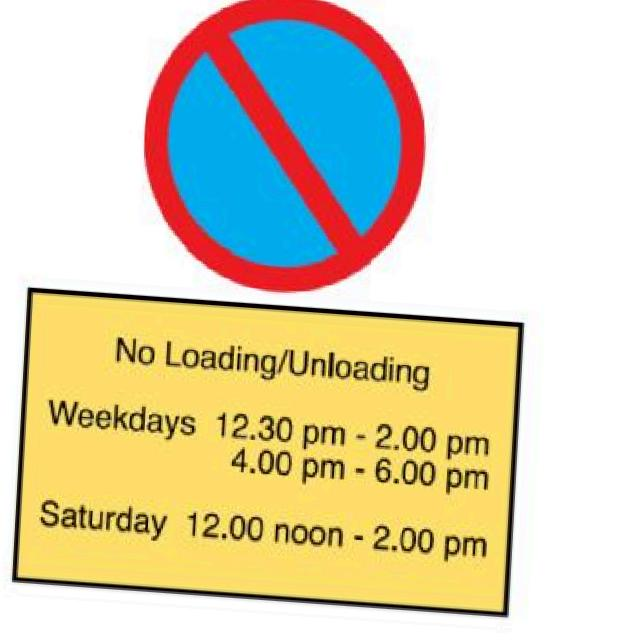forb_stopping: (142, 0, 428, 294)
